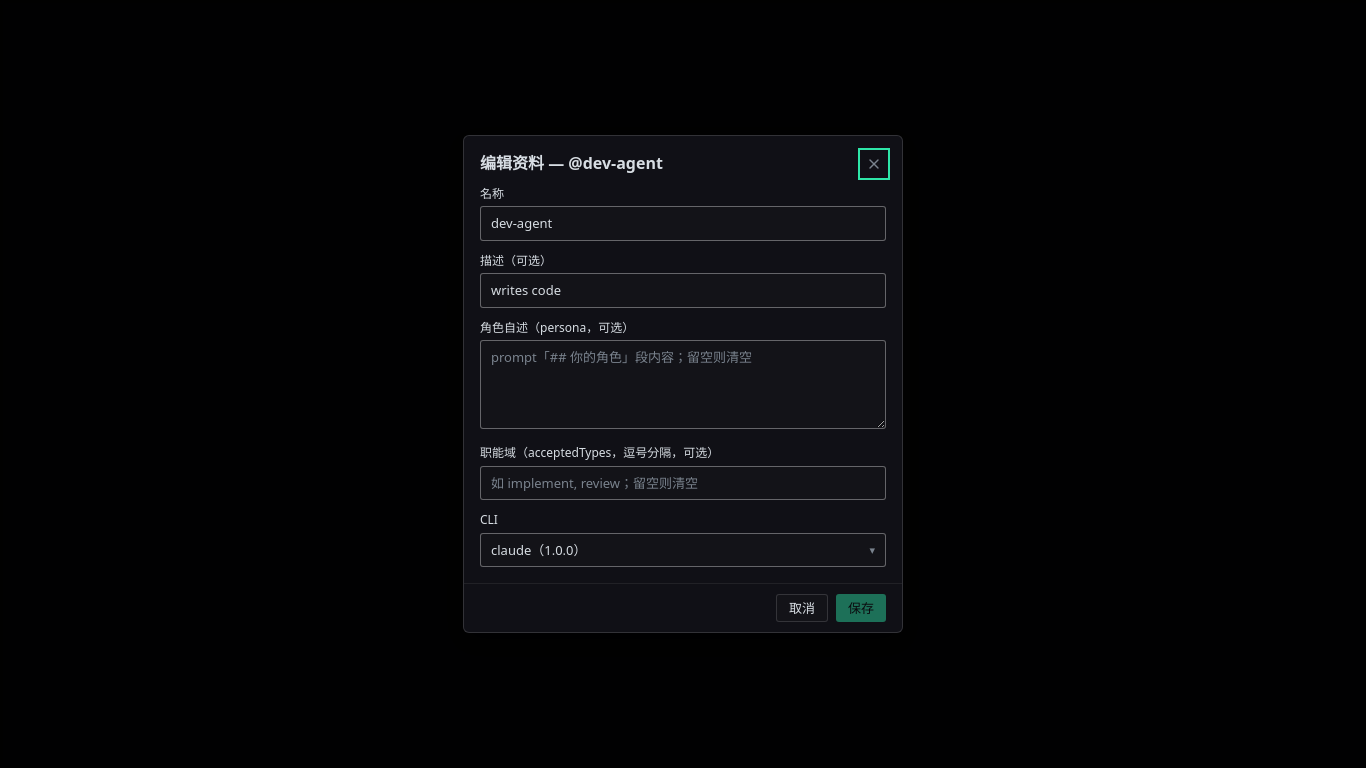
Test: RoleFormModal — edit 模式（决策 3：name/description/provider 三项） › 保存失败（409 名称冲突）→ 服务端 message 内联报错留窗
Replace the text in the field with test id "role-form-name" with "taken". click: (683, 224)
box: [480,206,886,241]
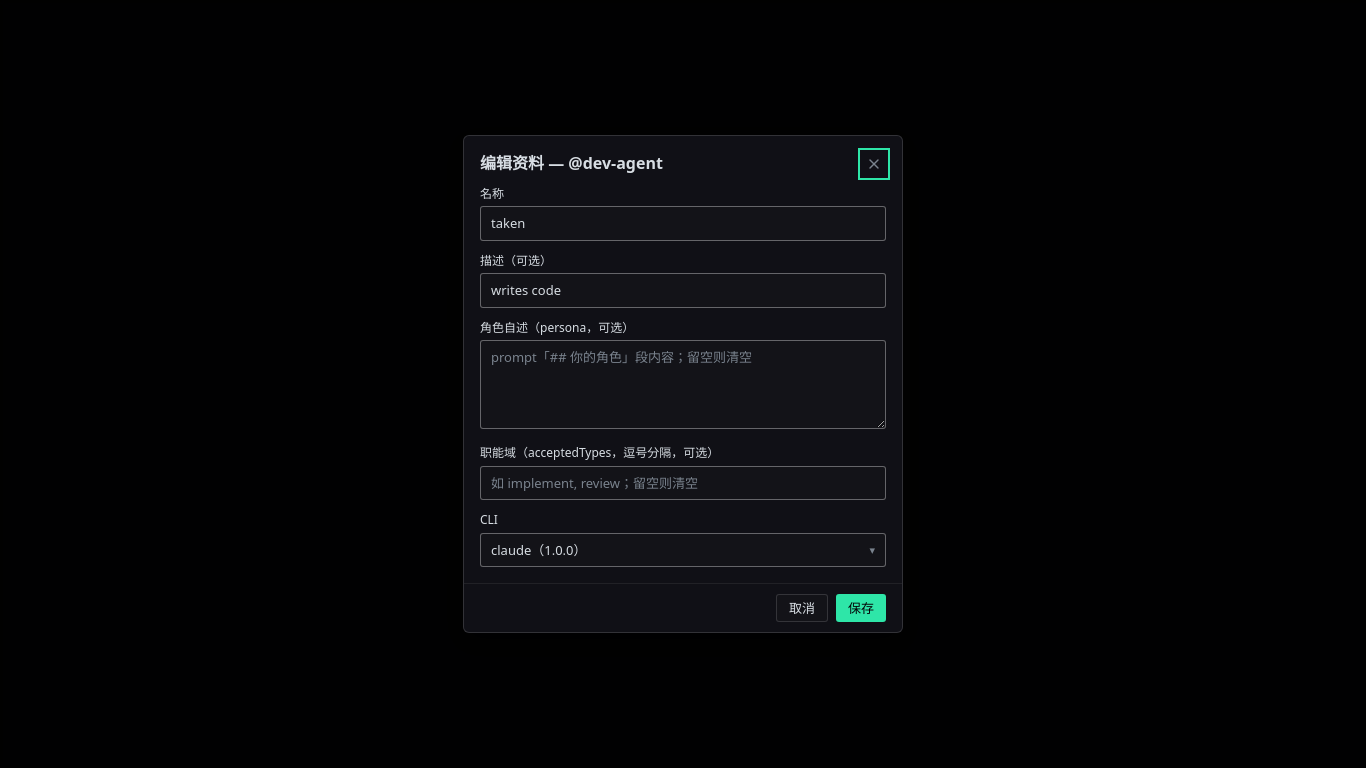
Click the button with test id "create-role-submit". click: click(861, 608)
box: [836,594,886,622]
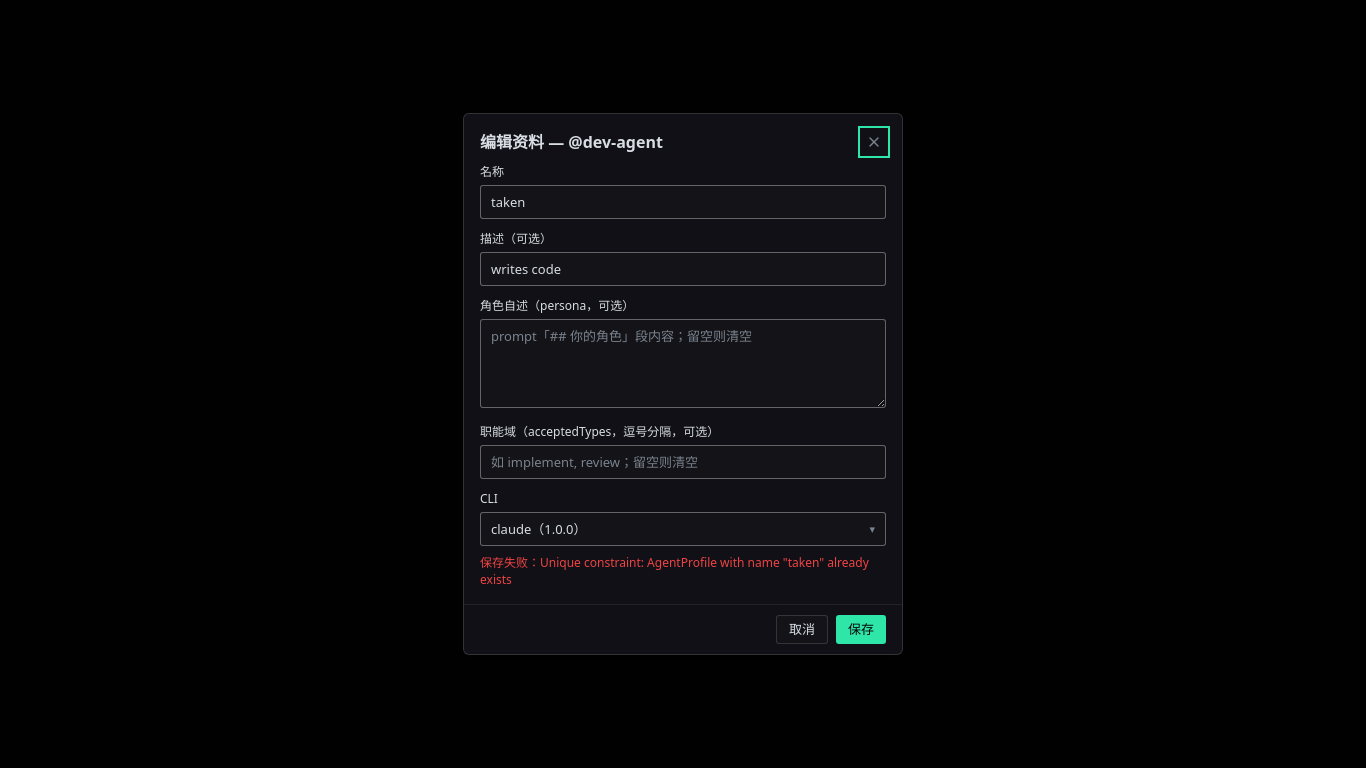
Now the text "already exists" is shown, box [480,554,869,588]
